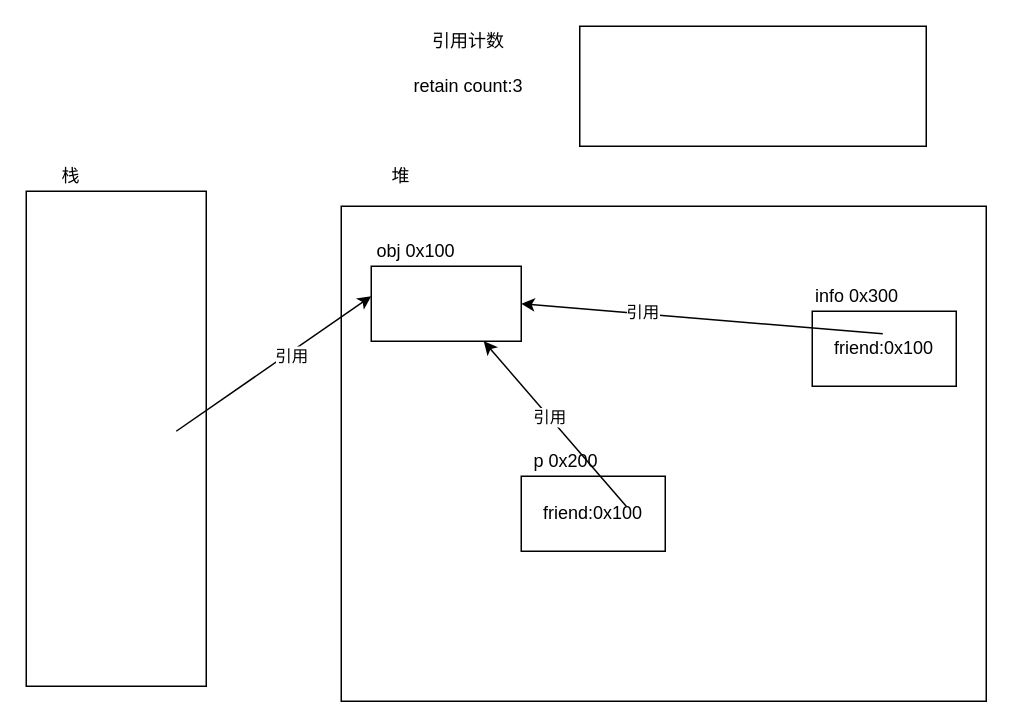
Image size: 1013x728. Some labels were removed from this diagram. The shapes that lost their labels are listed below. From the top down, each one's centre as x and y in pixels, then its label:
At pixel 752 85: "有变量或属性引用obj时，obj retain count就会+1，当一个变量或属性失去对obj的引用则-1，当retain count为0时，obj会被回收".
At pixel 115 438: "var obj = 0x100".
